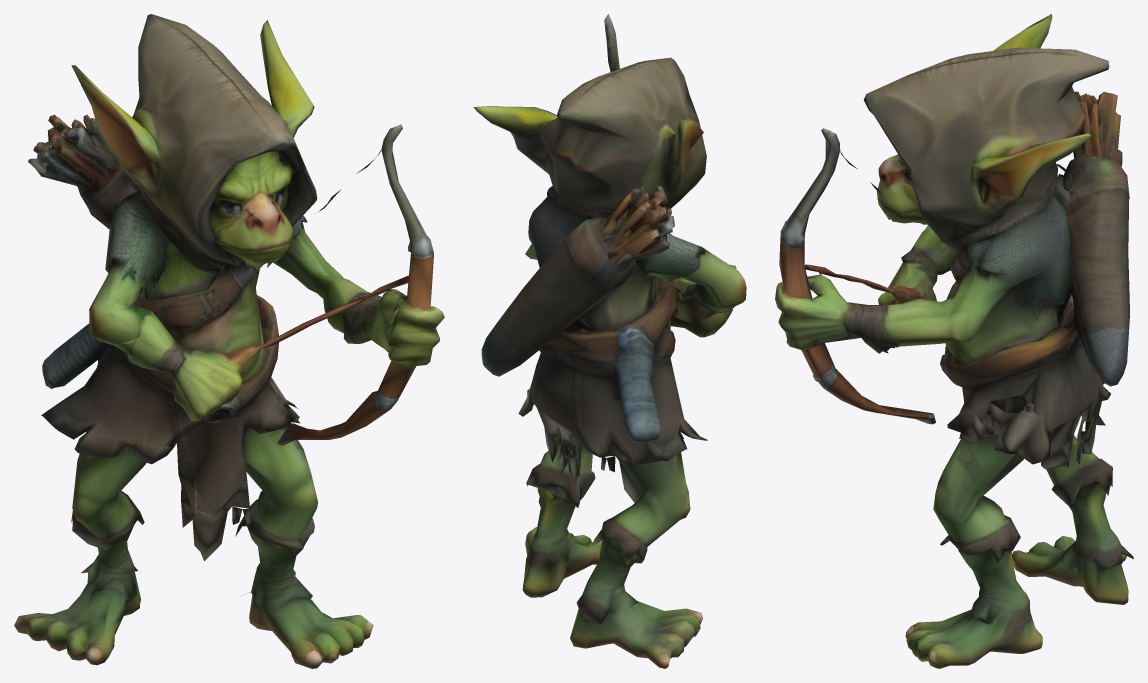
File: goblin_arch.glb
3 views of the same model, side by side, from view 1: azimuth 30°, elevation 25°; view 2: azimuth 150°, elevation 25°; view 3: azimuth 270°, elevation 25° (orthographic). The views are drawn at different scales.
Size of the model in its own units: 0.9118 by 2 by 1.15.
Materials: 1 (1 with a texture image).
